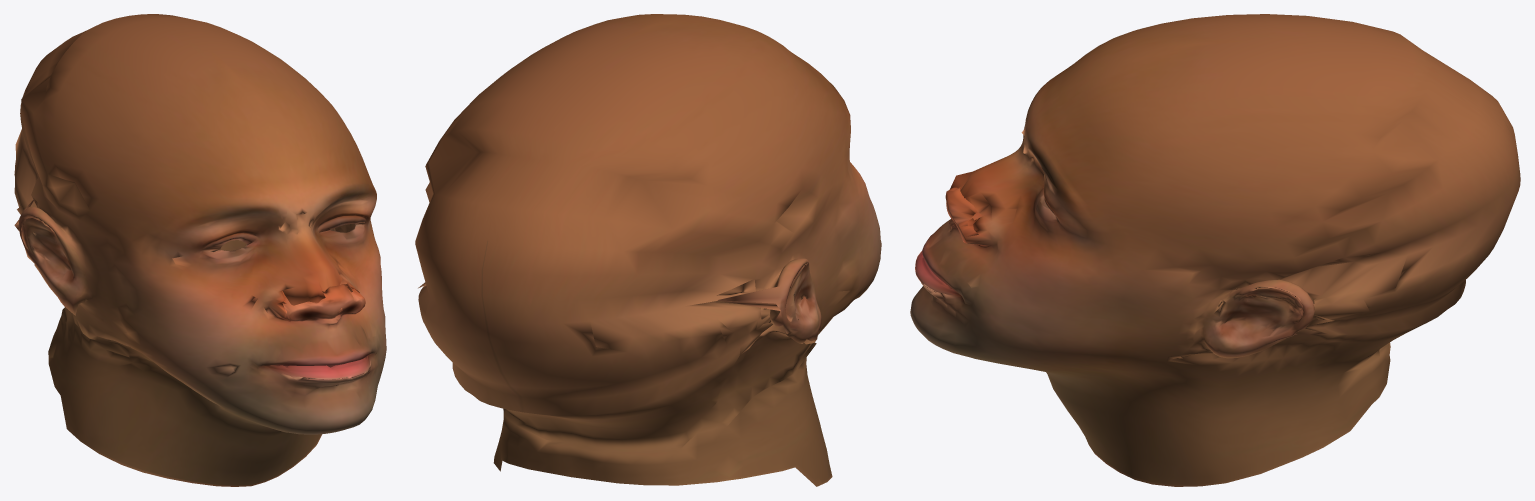
File: anim101.FBX
3 views of the same model, side by side, from view 1: azimuth 30°, elevation 25°; view 2: azimuth 150°, elevation 25°; view 3: azimuth 270°, elevation 25° (orthographic). The views are drawn at different scales.
Parts seen in each view (by area): view 1: base_face_; view 2: base_face_; view 3: base_face_.
Boxes of the visible parts, left/top/right/bottom form: base_face_: left=14, top=14, right=386, bottom=486; base_face_: left=415, top=14, right=881, bottom=486; base_face_: left=910, top=14, right=1520, bottom=486.
Bounding box in the file's own units: 6.29 × 7.66 × 10.23.
Materials: 1 (1 with a texture image).
